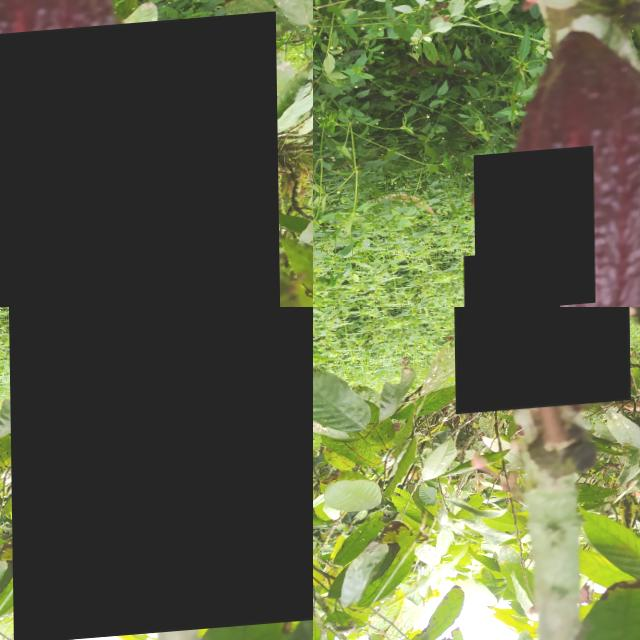Sana: (5, 307, 313, 640), (0, 21, 279, 307), (450, 307, 629, 418), (473, 151, 594, 307), (463, 253, 559, 307)
